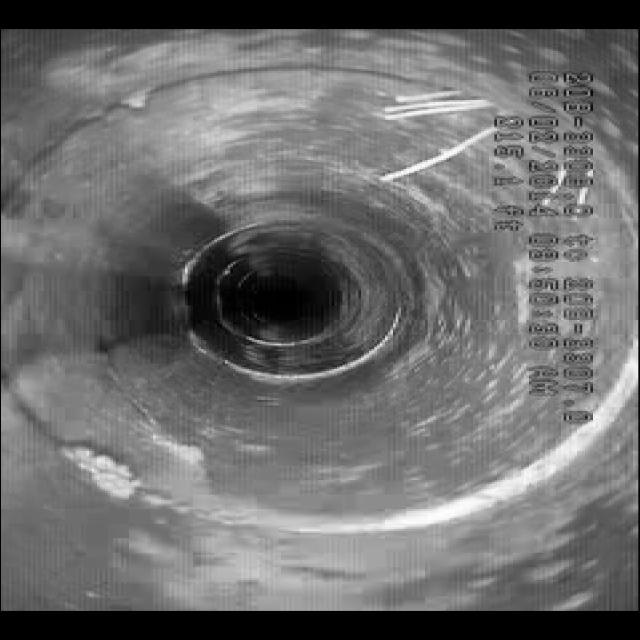Crack: (90, 352, 238, 502)
